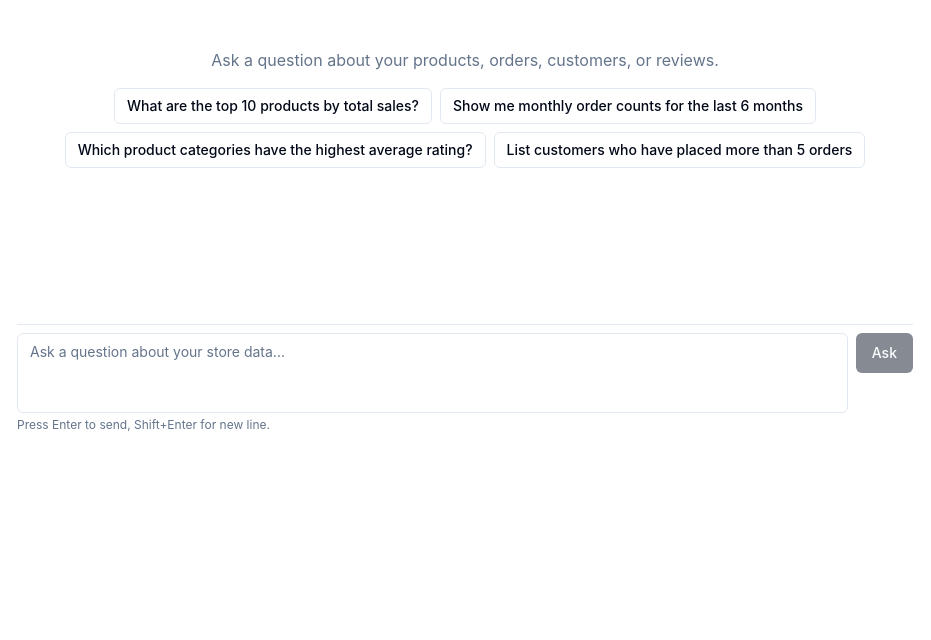
Test: AiAnalyticsChat › renders warnings as badges
The width and height of the screenshot is (931, 640).
In the text box with placeholder "Ask a question about your store data...": (432, 373) [17,333,848,413], type "Query with warnings"
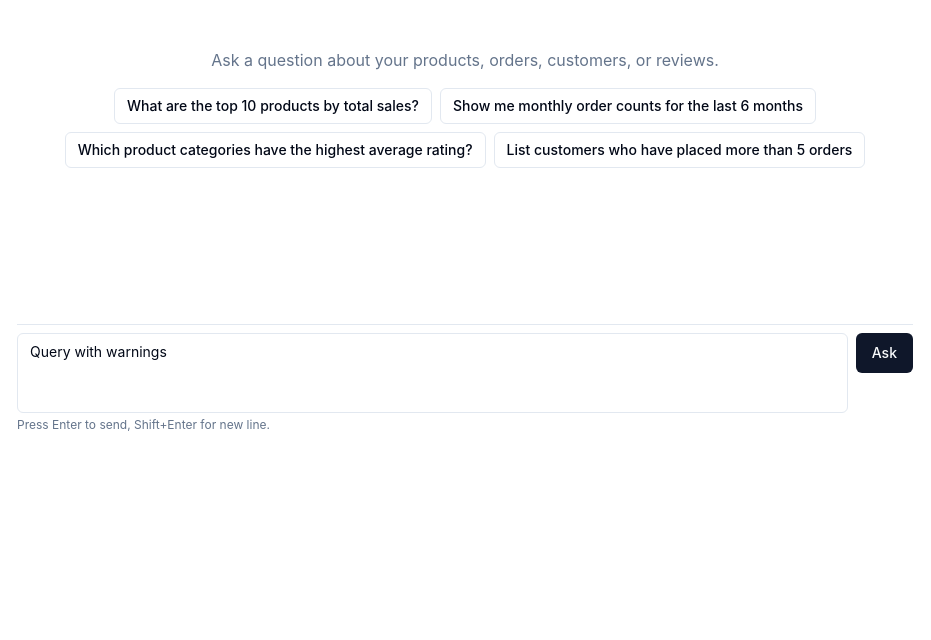
Click the button "Ask": (884, 353) [856,333,913,373]
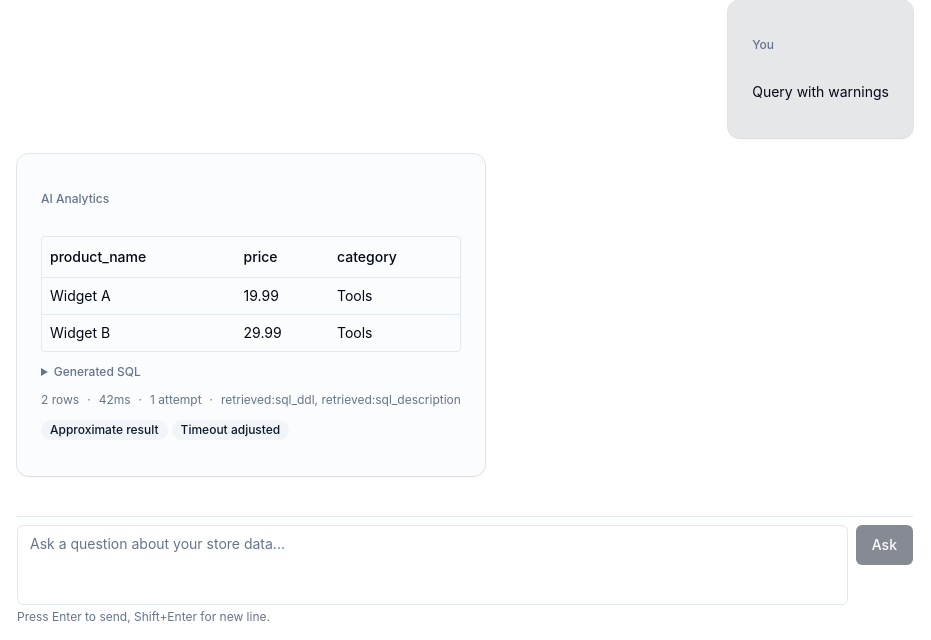
Now the text "Approximate result" is shown, box [41,420,168,440]
Now the text "Timeout adjusted" is shown, box [172,420,289,440]
